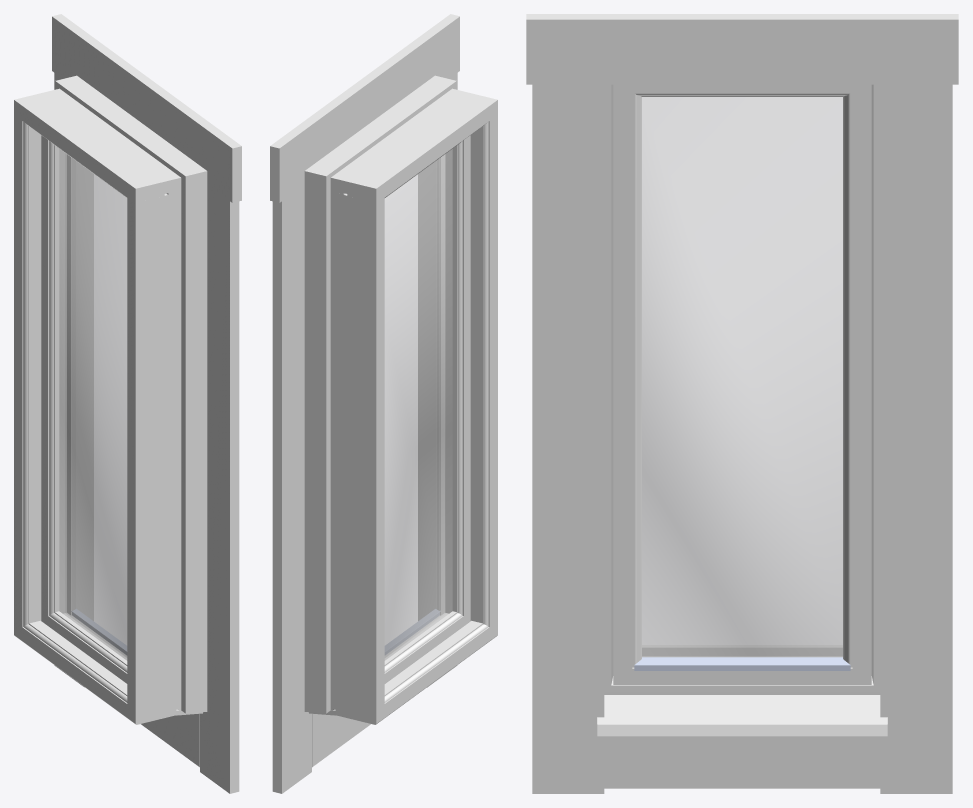
3 renders of one model, left to right at view 1: azimuth 30°, elevation 25°; view 2: azimuth 150°, elevation 25°; view 3: azimuth 270°, elevation 25°, orthographic. The views are drawn at different scales.
Parts seen in each view (by area): view 1: clear glass_clonedChild, clear glass, window_material-2[1], accentcolor_cornerboard_material-4[1], window_material-5, accentcolor_cornerboard_material-2[1], window_material-2, accentcolor_cornerboard_material-3, window_material-3, accentcolor_cornerboard_material-4, accentcolor_cornerboard_material-2, window_material (+4 smaller); view 2: clear glass_clonedChild, clear glass, window_material-2, accentcolor_cornerboard_material-4, window_material-5[1], accentcolor_cornerboard_material-2, window_material-2[1], accentcolor_cornerboard_material-3, window_material-3, accentcolor_cornerboard_material-4[1], accentcolor_cornerboard_material-2[1], window_material (+4 smaller); view 3: clear glass-2_clonedChild, clear glass-2, accentcolor_cornerboard_material-4, accentcolor_cornerboard_material-4[1], accentcolor_cornerboard_material-3, window_material-5, window_material-5[1], accentcolor_cornerboard_material-5, matte steel, window_material-2[1], window_material-2, window_material-4 (+3 smaller).
Boxes of the visible parts, x1,y1,x2,y2 form: clear glass_clonedChild: (60,150,126,659); clear glass: (60,150,126,659); window_material-2[1]: (127,192,181,716); accentcolor_cornerboard_material-4[1]: (200,185,239,793); window_material-5: (41,135,74,625); accentcolor_cornerboard_material-2[1]: (178,165,207,713); window_material-2: (14,114,41,633); accentcolor_cornerboard_material-3: (52,14,241,202); window_material-3: (14,88,181,202); accentcolor_cornerboard_material-4: (54,73,93,687); accentcolor_cornerboard_material-2: (55,75,83,613); window_material: (14,620,181,724); clear glass_clonedChild: (385,150,451,659); clear glass: (385,150,451,659); window_material-2: (330,192,384,716); accentcolor_cornerboard_material-4: (272,185,311,793); window_material-5[1]: (437,135,470,625); accentcolor_cornerboard_material-2: (304,165,333,713); window_material-2[1]: (470,114,497,633); accentcolor_cornerboard_material-3: (270,14,459,202); window_material-3: (330,88,497,202); accentcolor_cornerboard_material-4[1]: (418,73,457,687); accentcolor_cornerboard_material-2[1]: (428,75,456,613); window_material: (330,620,497,724); clear glass-2_clonedChild: (642,97,842,656); clear glass-2: (642,97,842,656); accentcolor_cornerboard_material-4: (880,84,952,793); accentcolor_cornerboard_material-4[1]: (532,84,604,793); accentcolor_cornerboard_material-3: (526,14,958,84); window_material-5: (843,84,871,684); window_material-5[1]: (613,84,641,684); accentcolor_cornerboard_material-5: (604,736,880,788); matte steel: (597,692,887,736); window_material-2[1]: (604,84,613,687); window_material-2: (871,84,880,687); window_material-4: (632,645,852,684).
Bounding box in the file's own units: 0.1871 × 1.42 × 0.72.
Materials: 25 (15 with a texture image).
